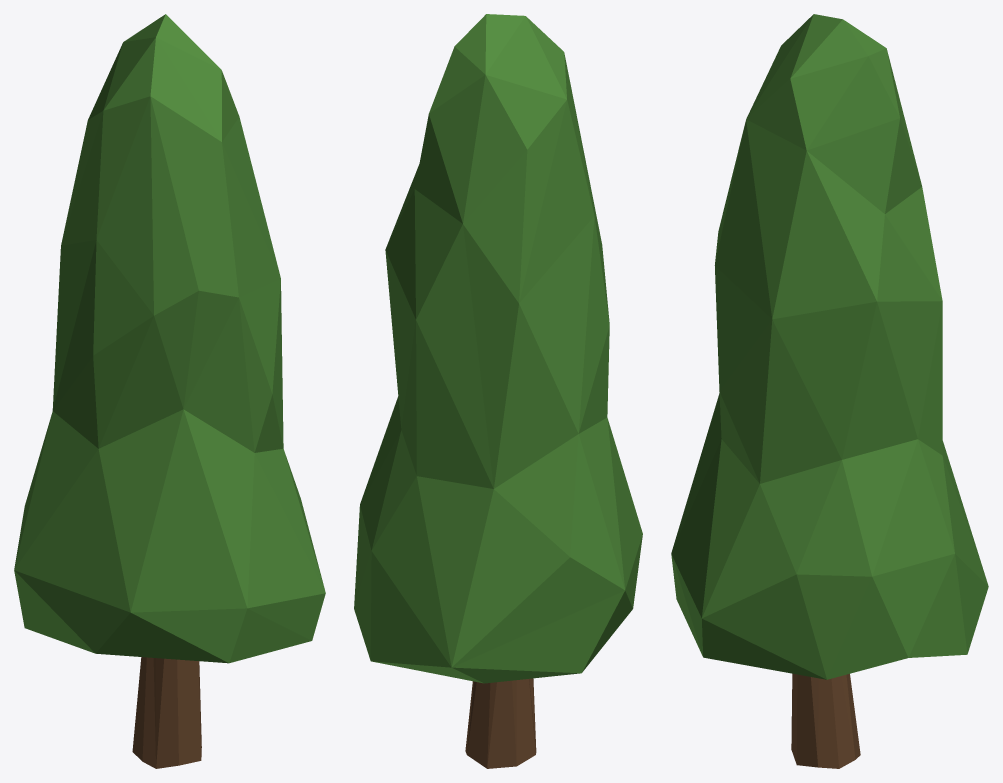
The model's file is shaped-tree-columnar.glb.
The picture shows the model from 3 angles, left to right: view 1: azimuth 30°, elevation 25°; view 2: azimuth 150°, elevation 25°; view 3: azimuth 270°, elevation 25°; orthographic projection.
Parts seen in each view (by area): view 1: leaves_Sphere, trunk_Cube; view 2: leaves_Sphere, trunk_Cube; view 3: leaves_Sphere, trunk_Cube.
Part boxes in pixels (x1=…): leaves_Sphere: x1=14, y1=14, x2=325, y2=663; trunk_Cube: x1=132, y1=657, x2=201, y2=768; leaves_Sphere: x1=354, y1=14, x2=642, y2=683; trunk_Cube: x1=465, y1=678, x2=536, y2=768; leaves_Sphere: x1=671, y1=14, x2=988, y2=679; trunk_Cube: x1=791, y1=673, x2=860, y2=768.
Size of the model in its own units: 3.14 by 8.53 by 3.32.
